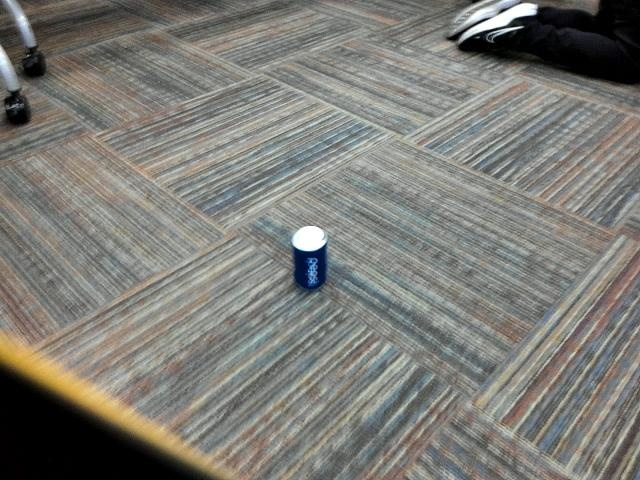can: (286, 222, 338, 295)
